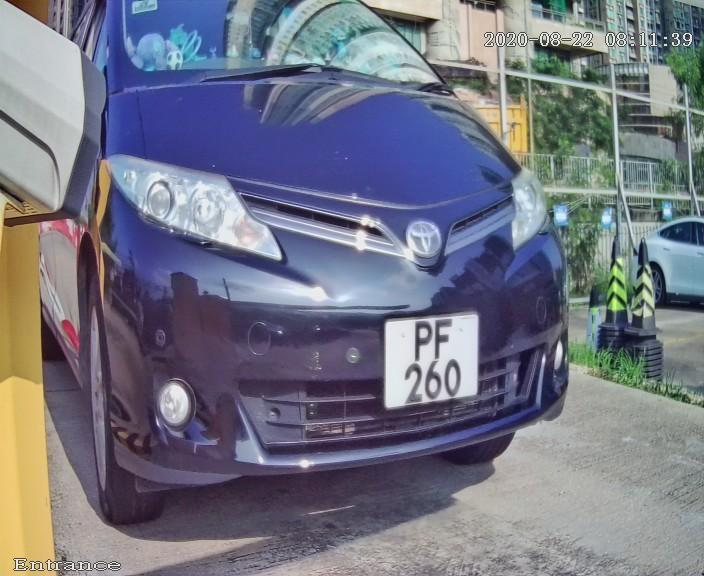Car: (35, 1, 604, 553)
License Plate: (381, 299, 494, 427)
